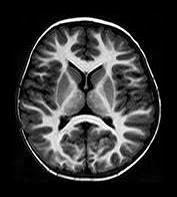Normal_Brain: (1, 1, 177, 197)
